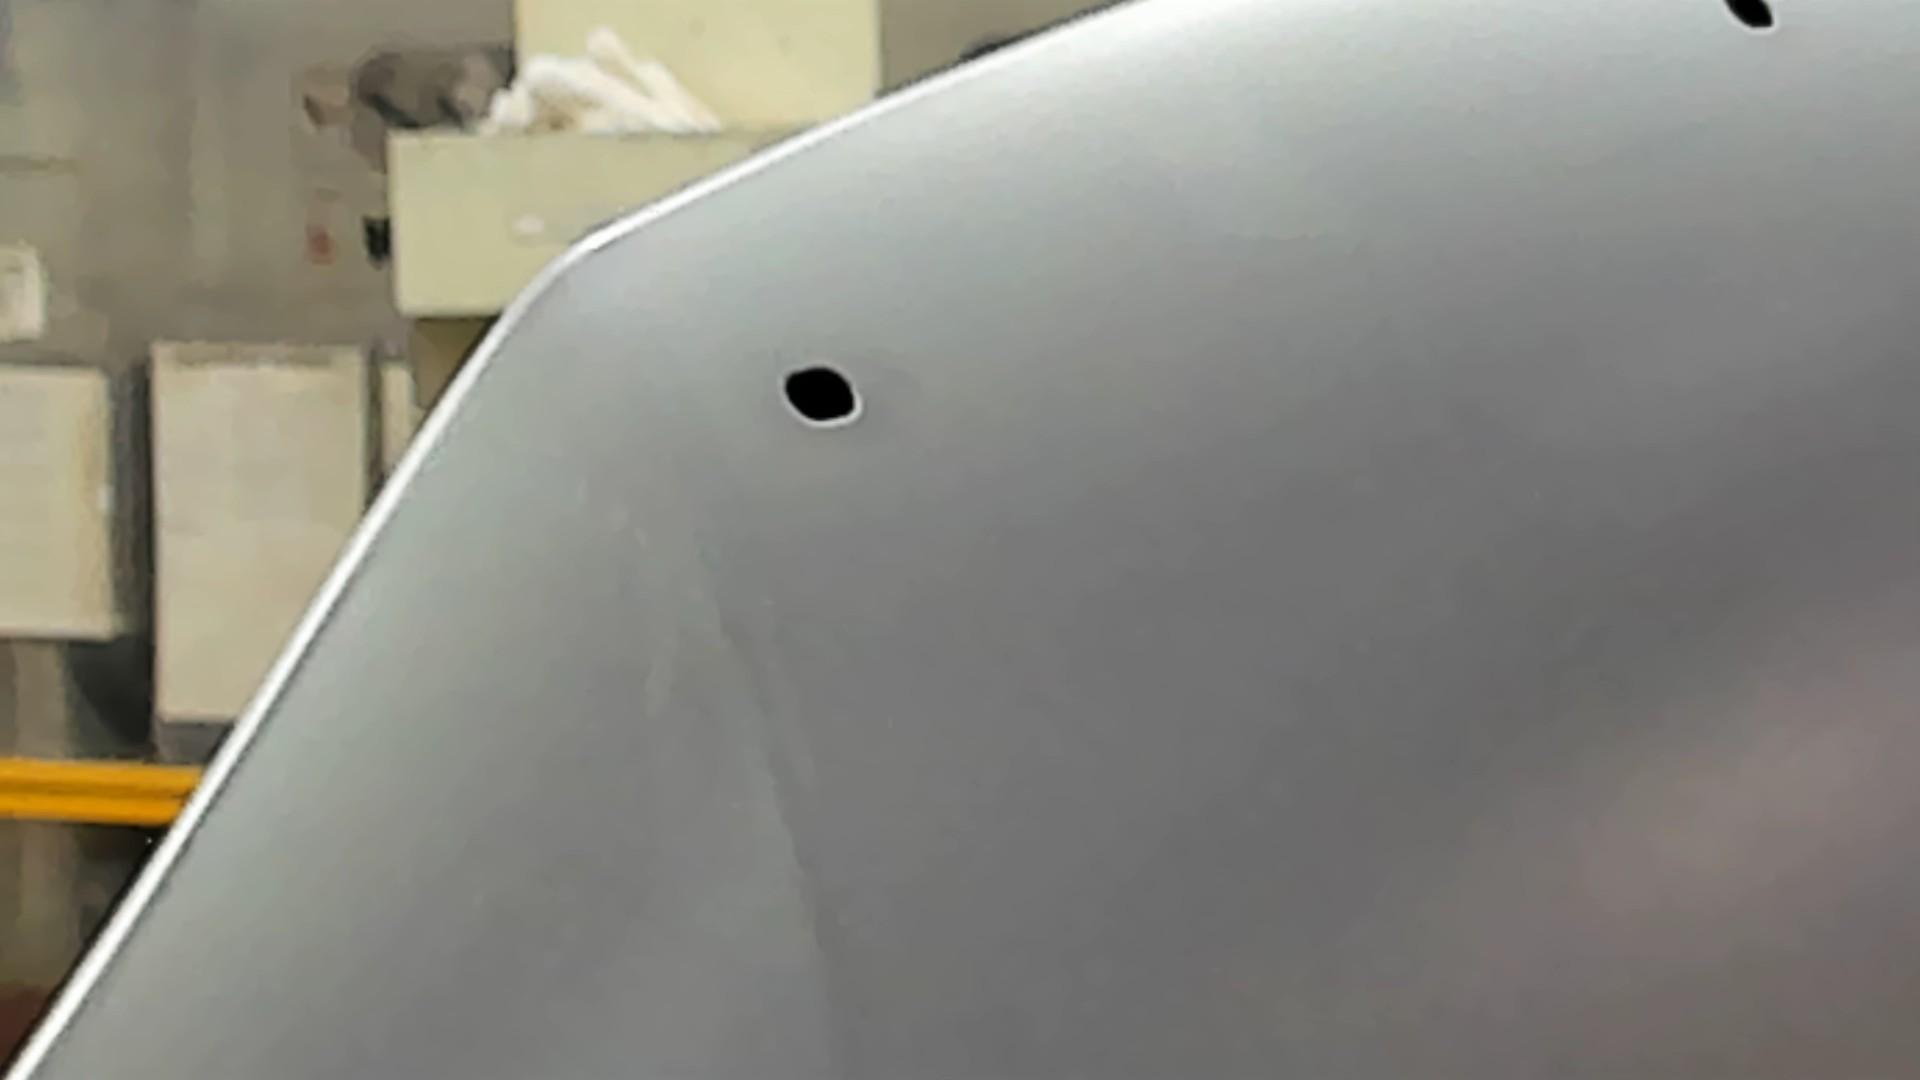amorfo: (767, 360, 873, 433), (1712, 1, 1791, 42)
capo: (975, 100, 1920, 1080)
